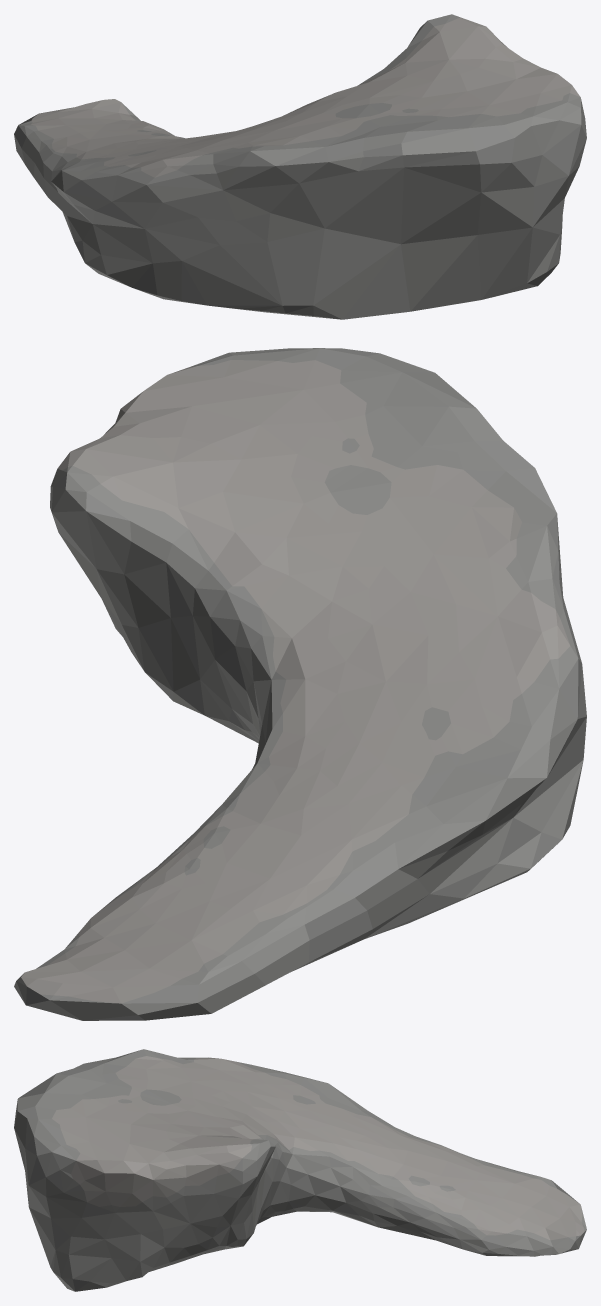
The model's file is Cavern_Floor_Narrow_Ramp_Lrg-04.fbx.
The picture shows the model from 3 angles, top to bottom: view 1: azimuth 30°, elevation 25°; view 2: azimuth 150°, elevation 25°; view 3: azimuth 270°, elevation 25°; orthographic projection. The views are drawn at different scales.
Visible parts, largest first — view 1: Cavern_Floor_Narrow_Ramp_Lrg-04; view 2: Cavern_Floor_Narrow_Ramp_Lrg-04; view 3: Cavern_Floor_Narrow_Ramp_Lrg-04.
Boxes of the visible parts, x1,y1,x2,y2 form: Cavern_Floor_Narrow_Ramp_Lrg-04: [14, 14, 586, 319]; Cavern_Floor_Narrow_Ramp_Lrg-04: [14, 348, 586, 1020]; Cavern_Floor_Narrow_Ramp_Lrg-04: [14, 1049, 586, 1291].
Bounding box in the file's own units: 1233 × 630 × 1793.
Materials: 1 (1 with a texture image).
